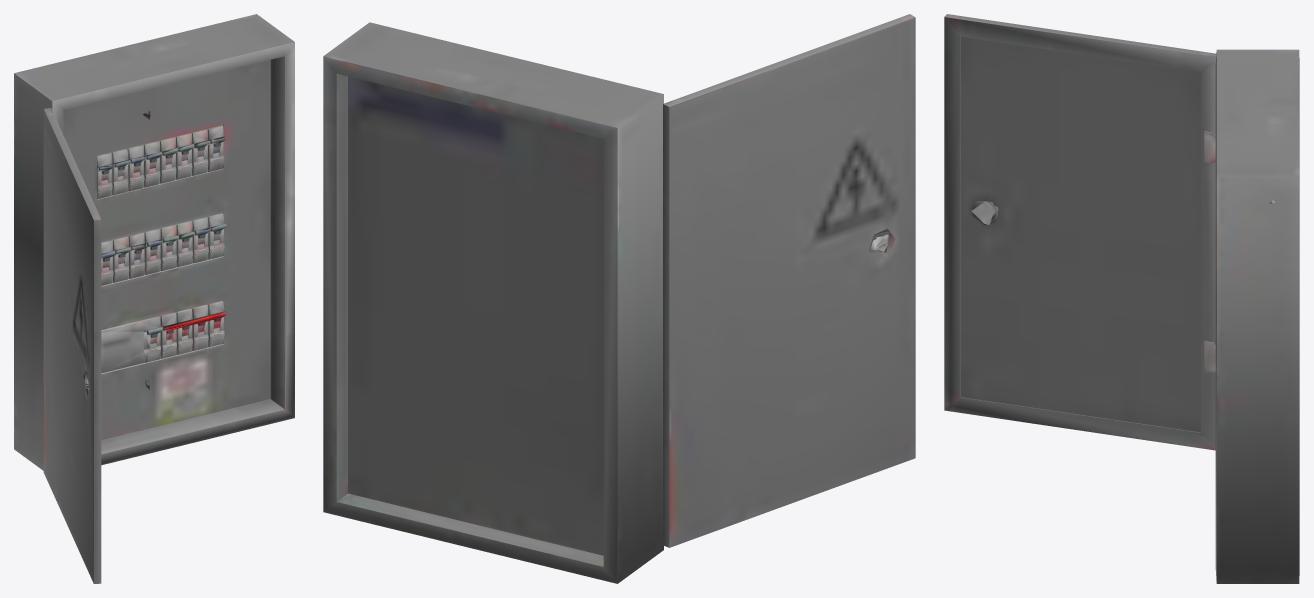
File: power_box_01_lod2.glb
The picture shows the model from 3 angles, left to right: view 1: azimuth 30°, elevation 25°; view 2: azimuth 150°, elevation 25°; view 3: azimuth 270°, elevation 25°; orthographic projection. The views are drawn at different scales.
Parts seen in each view (by area): view 1: power_box_01_door; view 2: power_box_01_door; view 3: power_box_01_door.
Part boxes in pixels (x1,y1,x2,y2): power_box_01_door: [14, 14, 294, 583]; power_box_01_door: [323, 14, 915, 583]; power_box_01_door: [944, 14, 1299, 583].
Size of the model in its own units: 0.458 by 0.5031 by 0.399.
1 material, 1 textured.
